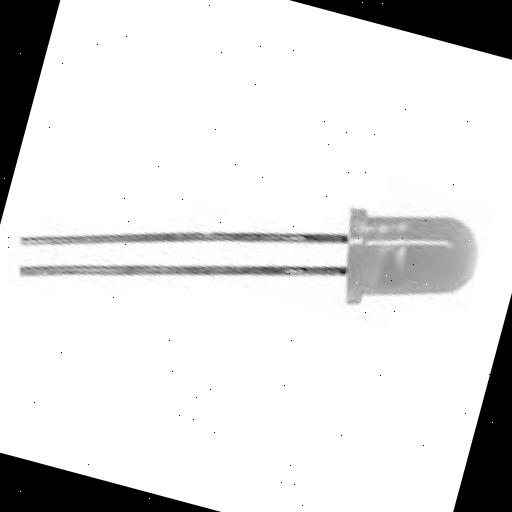LED: (2, 72, 512, 423)
